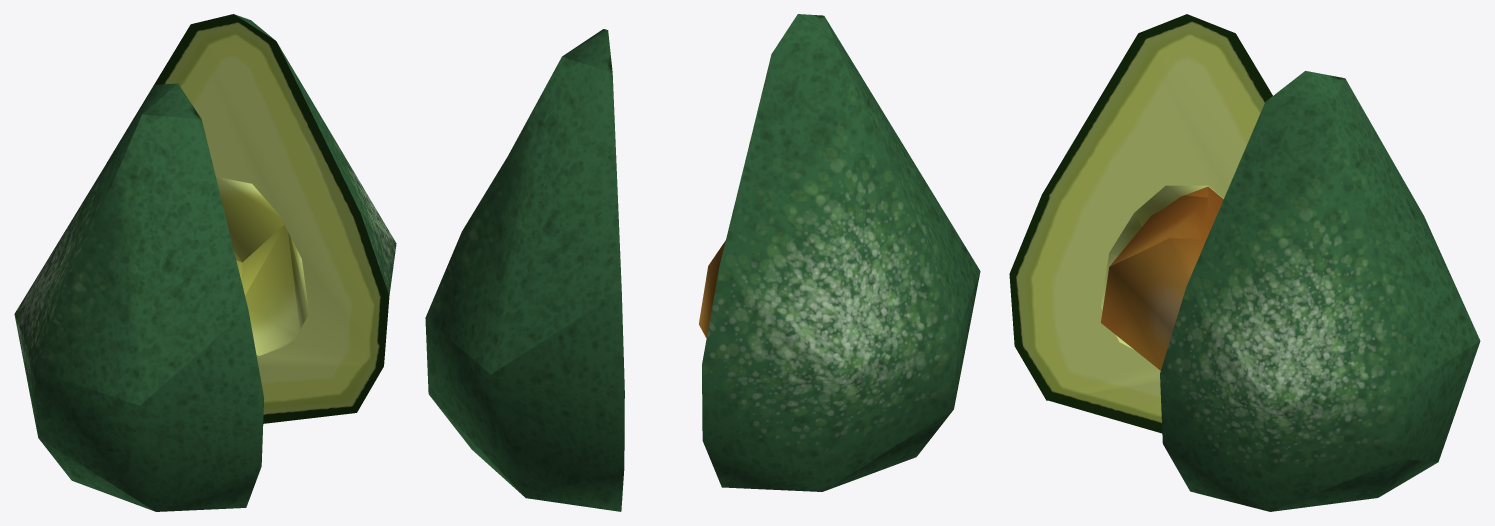
Rendered from avacoda.fbx.
3 renders of one model, left to right at view 1: azimuth 30°, elevation 25°; view 2: azimuth 150°, elevation 25°; view 3: azimuth 270°, elevation 25°, orthographic. The views are drawn at different scales.
Parts seen in each view (by area): view 1: avacado1; view 2: avacado1; view 3: avacado1.
Boxes of the visible parts, x1,y1,x2,y2 form: avacado1: (14,14,396,511); avacado1: (425,14,980,511); avacado1: (1009,14,1480,511).
Bounding box in the file's own units: 111 × 109 × 109.
1 material, 1 textured.
